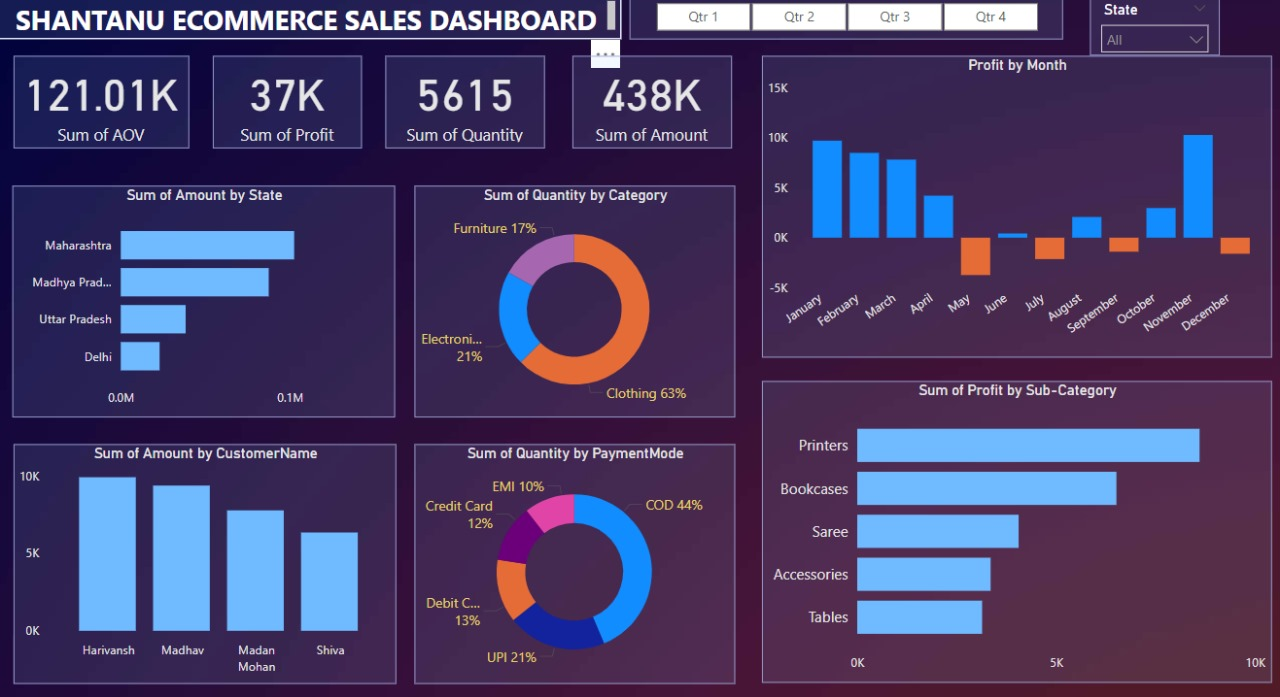

The dashboard page shown, as its layout file describes it:
{"tool":"powerbi","page":{"name":"Page 1","canvas":[1280,720],"ordinal":0},"visuals":[{"type":"textbox","box":[0,0,618,44],"z":0},{"type":"columnChart","title":"Profit by Month","fields":{"Y":["Details.Profit"],"Category":["Orders.Order Date.Variation.Date Hierarchy.Month"]},"box":[758,60,506,300],"z":1000},{"type":"barChart","fields":{"Category":["Details.Sub-Category"],"Y":["Details.Profit"]},"box":[758,384,506,300],"z":2000},{"type":"donutChart","fields":{"Category":["Details.Category"],"Y":["Details.Quantity"]},"box":[412,190,318,230],"z":3000},{"type":"donutChart","fields":{"Y":["Details.Quantity"],"Category":["Details.PaymentMode"]},"box":[412,446,318,238],"z":4000},{"type":"card","fields":{"Values":["Details.Amount"]},"box":[570,60,158,92],"z":5000},{"type":"card","fields":{"Values":["Details.Quantity"]},"box":[384,60,158,92],"z":6000},{"type":"card","fields":{"Values":["Details.Profit"]},"box":[212,60,148,92],"z":7000},{"type":"card","fields":{"Values":["Details.AVG"]},"box":[14,60,174,92],"z":8000},{"type":"barChart","fields":{"Category":["Orders.State"],"Y":["Details.Amount"]},"box":[13.8,190,380,230],"z":9000},{"type":"columnChart","fields":{"Category":["Orders.CustomerName"],"Y":["Details.Amount"]},"box":[14,446,380,238],"z":10000},{"type":"slicer","fields":{"Values":["Orders.Order Date.Variation.Date Hierarchy.Quarter"]},"box":[626.2,0,430,43.8],"z":11000},{"type":"slicer","fields":{"Values":["Orders.State"]},"box":[1083.8,0,128.8,60],"z":12000}]}

Visuals, with their boxes on the page's 1280x720 design canvas (x1, y1, x2, y2). These are canvas units, not pixel positions in the 1280x697 screenshot, which may show the page scaled, cropped or inside an application window:
textbox: <region>0, 0, 618, 44</region>
"Profit by Month" columnChart: <region>758, 60, 1264, 360</region>
barChart - Details.Sub-Category x Details.Profit: <region>758, 384, 1264, 684</region>
donutChart - Details.Category x Details.Quantity: <region>412, 190, 730, 420</region>
donutChart - Details.Quantity x Details.PaymentMode: <region>412, 446, 730, 684</region>
card - Details.Amount: <region>570, 60, 728, 152</region>
card - Details.Quantity: <region>384, 60, 542, 152</region>
card - Details.Profit: <region>212, 60, 360, 152</region>
card - Details.AVG: <region>14, 60, 188, 152</region>
barChart - Orders.State x Details.Amount: <region>14, 190, 394, 420</region>
columnChart - Orders.CustomerName x Details.Amount: <region>14, 446, 394, 684</region>
slicer - Orders.Order Date.Variation.Date Hierarchy.Quarter: <region>626, 0, 1056, 44</region>
slicer - Orders.State: <region>1084, 0, 1213, 60</region>
